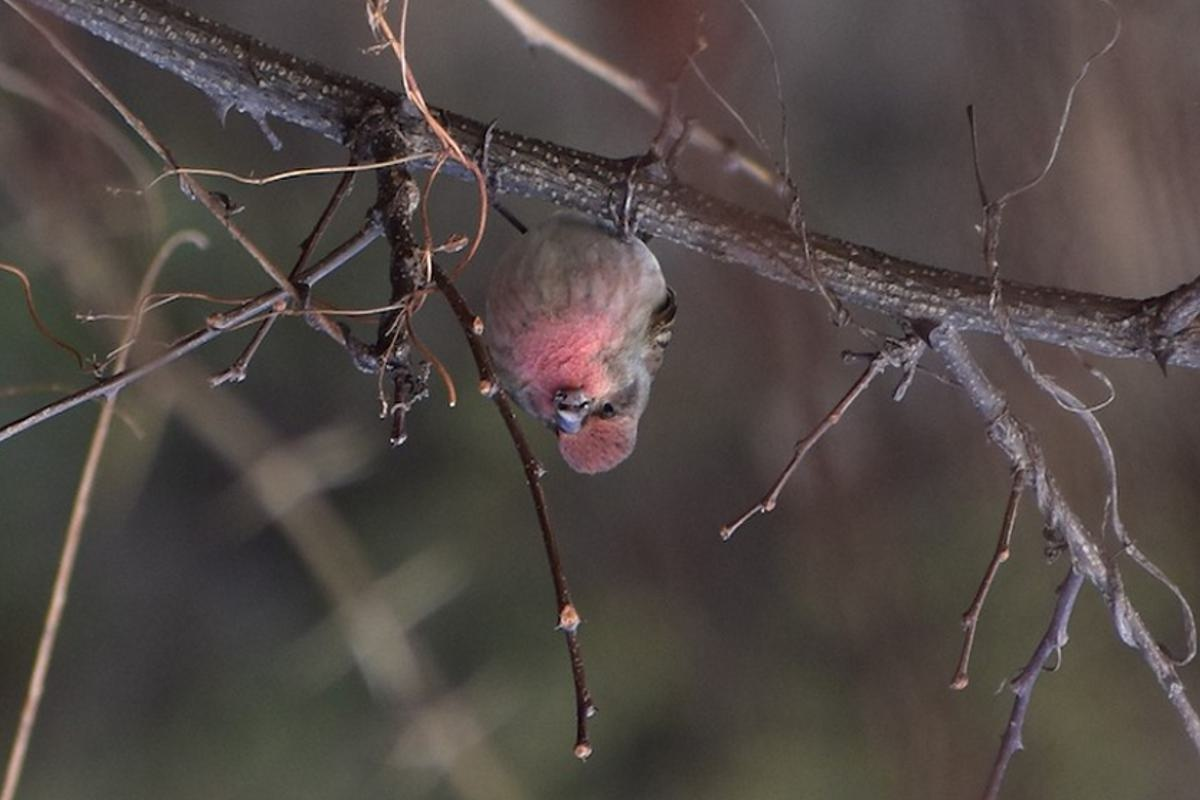rosefinch: (476, 190, 681, 473)
